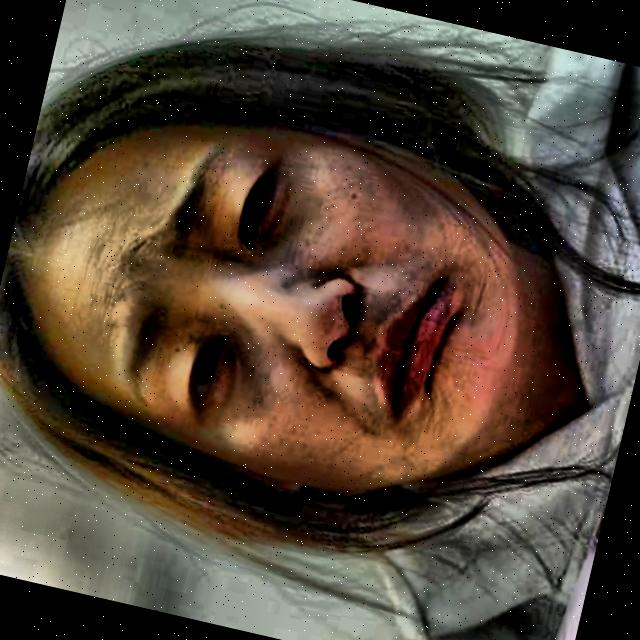sad: (0, 13, 580, 574)
